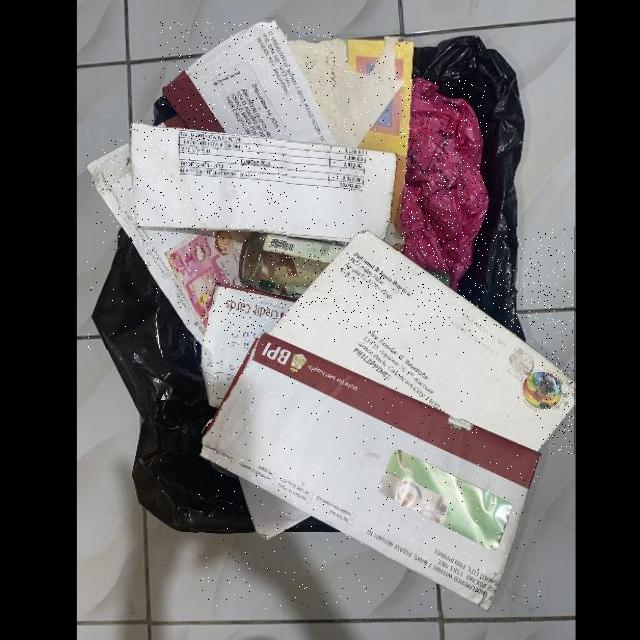paper: (199, 332, 541, 611), (271, 228, 575, 454), (87, 141, 254, 350), (131, 120, 398, 241), (288, 38, 415, 251), (160, 23, 337, 149), (202, 280, 297, 410)
plastic: (401, 79, 488, 294)
